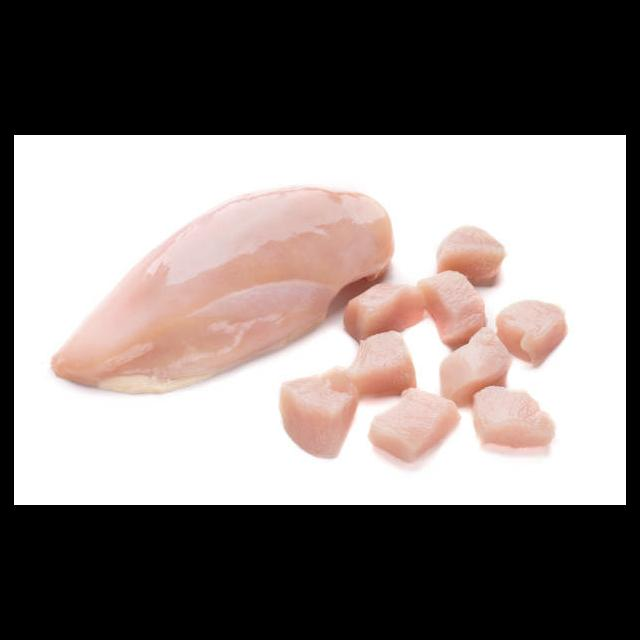chicken: (50, 184, 398, 400), (276, 224, 566, 466)
